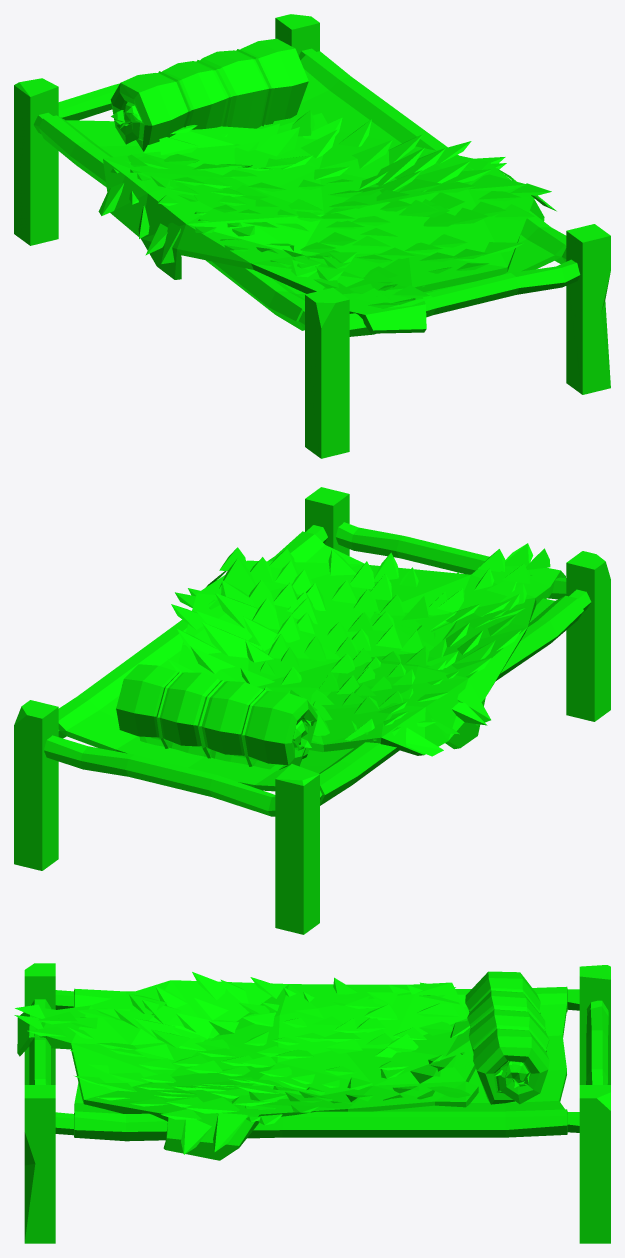
File: SM_Bed_Single_Fabric_B_Fantasy.fbx
3 views of the same model, one above another, from view 1: azimuth 30°, elevation 25°; view 2: azimuth 150°, elevation 25°; view 3: azimuth 270°, elevation 25° (orthographic). The views are drawn at different scales.
Parts seen in each view (by area): view 1: bed-single-fabric-b-fantasy; view 2: bed-single-fabric-b-fantasy; view 3: bed-single-fabric-b-fantasy.
Boxes of the visible parts, x1=… form: bed-single-fabric-b-fantasy: x1=14, y1=14, x2=610, y2=458; bed-single-fabric-b-fantasy: x1=14, y1=487, x2=610, y2=934; bed-single-fabric-b-fantasy: x1=14, y1=963, x2=610, y2=1243.
Bounding box in the file's own units: 1.41 × 0.6891 × 2.2.
